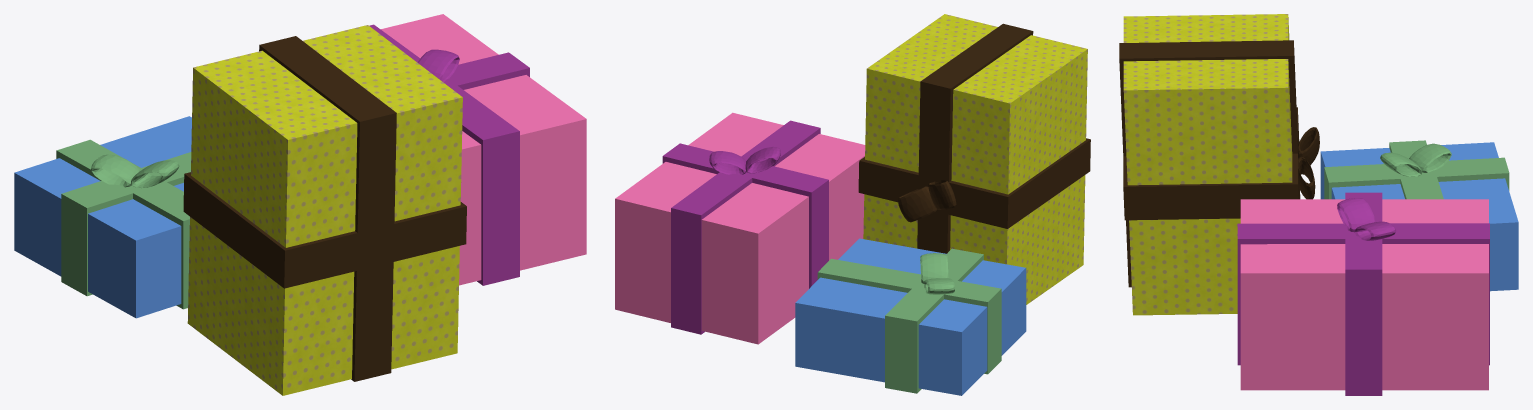
File: presents.glb
3 renders of one model, left to right at view 1: azimuth 30°, elevation 25°; view 2: azimuth 150°, elevation 25°; view 3: azimuth 270°, elevation 25°, orthographic. The views are drawn at different scales.
Parts seen in each view (by area): view 1: Cube.005, Cube, Cube.008, Cube.003, Cube.004, Cube.002, Cube.006, Cube.007, Cube.001, Torus.004, Torus.001, Torus.005; view 2: Cube.005, Cube, Cube.008, Cube.003, Cube.002, Cube.004, Cube.007, Cube.006, Cube.001, Torus.002, Torus.005, Torus.001 (+3 smaller); view 3: Cube, Cube.005, Cube.008, Cube.001, Cube.004, Cube.002, Cube.003, Cube.007, Cube.006, Torus, Torus.004, Torus.005 (+3 smaller).
Boxes of the visible parts, x1,y1,x2,y2 form: Cube.005: [187, 25, 462, 395]; Cube: [381, 14, 586, 285]; Cube.008: [14, 116, 191, 318]; Cube.003: [259, 36, 396, 381]; Cube.004: [183, 172, 466, 288]; Cube.002: [369, 24, 519, 285]; Cube.006: [61, 152, 191, 296]; Cube.007: [56, 139, 189, 309]; Cube.001: [444, 52, 529, 89]; Torus.004: [91, 154, 139, 187]; Torus.001: [417, 49, 459, 82]; Torus.005: [131, 160, 179, 188]; Cube.005: [863, 14, 1087, 304]; Cube: [615, 112, 865, 344]; Cube.008: [795, 238, 1026, 395]; Cube.003: [917, 23, 1033, 253]; Cube.002: [671, 120, 820, 334]; Cube.004: [858, 138, 1090, 228]; Cube.007: [885, 248, 983, 393]; Cube.006: [817, 258, 1001, 374]; Cube.001: [662, 143, 828, 288]; Torus.002: [898, 186, 937, 222]; Torus.005: [920, 253, 948, 283]; Torus.001: [709, 151, 746, 174]; Cube: [1240, 199, 1488, 390]; Cube.005: [1123, 14, 1292, 315]; Cube.008: [1320, 142, 1518, 291]; Cube.001: [1345, 192, 1382, 395]; Cube.004: [1123, 107, 1299, 220]; Cube.002: [1237, 223, 1489, 365]; Cube.003: [1119, 40, 1300, 287]; Cube.007: [1324, 157, 1509, 199]; Cube.006: [1389, 140, 1443, 199]; Torus: [1337, 198, 1375, 232]; Torus.004: [1409, 143, 1451, 172]; Torus.005: [1380, 152, 1422, 176].
Size of the model in its own units: 3.97 by 2.36 by 3.69.
Materials: 6 (1 with a texture image).
